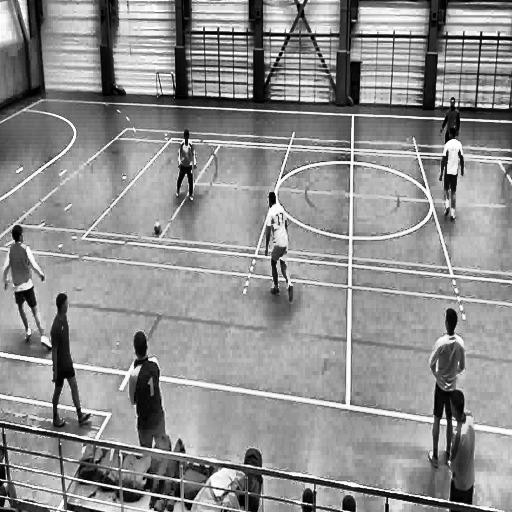ball: (153, 220, 163, 238)
player: (0, 219, 51, 355), (426, 303, 464, 468), (49, 292, 92, 428), (129, 330, 170, 448), (445, 388, 476, 512), (261, 189, 295, 299), (438, 127, 466, 234), (176, 128, 200, 207), (439, 96, 460, 146)
